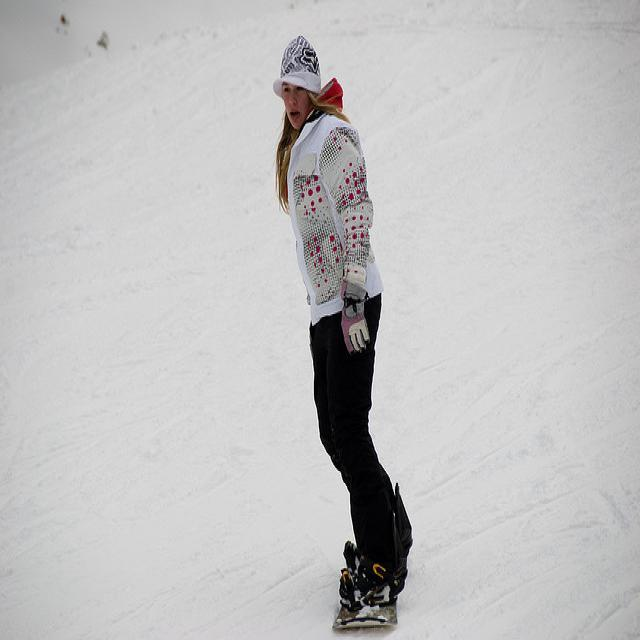non-dog: (276, 36, 416, 612)
